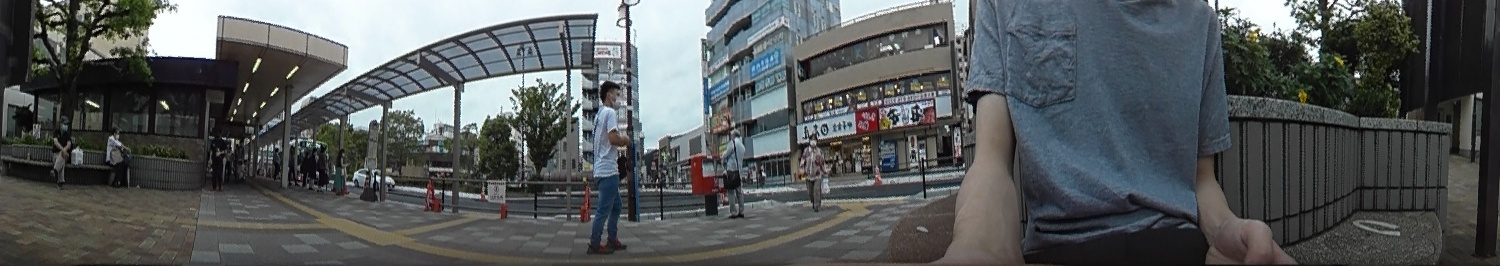difficult_person: (209, 131, 225, 187), (333, 147, 348, 195), (317, 146, 328, 190), (306, 147, 317, 188), (286, 146, 297, 184), (233, 144, 244, 180)
person: (588, 81, 630, 256), (715, 129, 747, 219), (104, 128, 135, 189), (801, 135, 826, 210), (50, 114, 72, 182)
